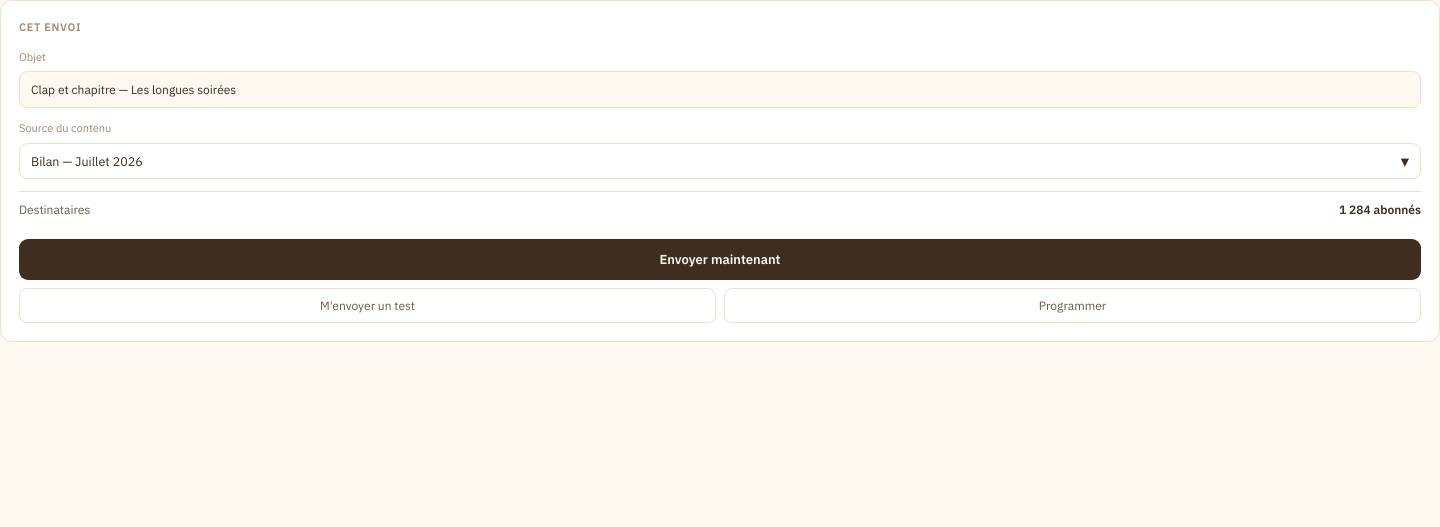
Scenario: AN-3 newsletter panels › proposes a slot and spells the booking out (Paris time) before confirming it
Click the button "Programmer" at (1072, 306), box x1=724 y1=288 x2=1421 y2=323
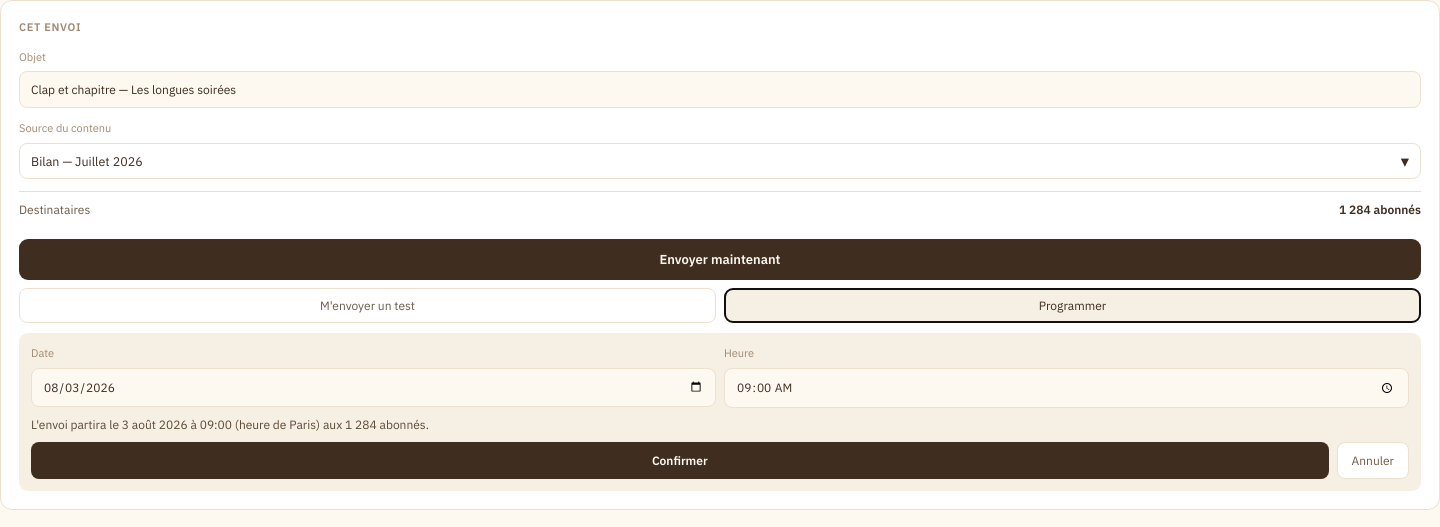
Check: the date field labelled "Date" holds "2026-08-03", box x1=31 y1=368 x2=716 y2=407
Check: the time field labelled "Heure" holds "09:00", box x1=724 y1=368 x2=1409 y2=408
Click the button "Confirmer" at (680, 461), box x1=31 y1=442 x2=1329 y2=479
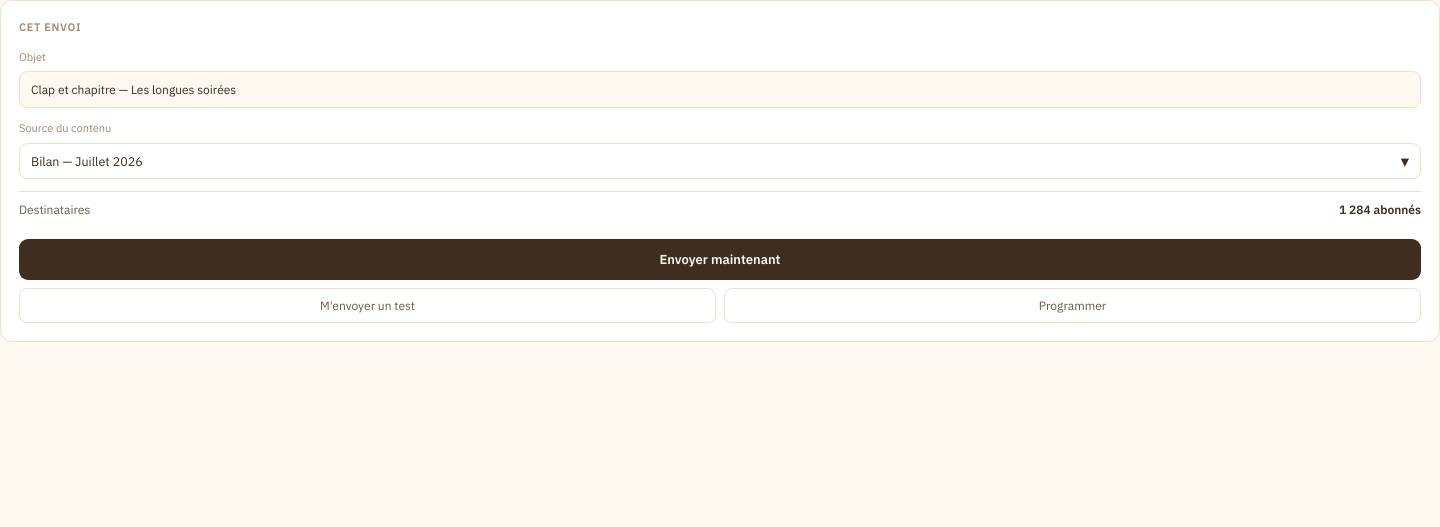
Check: the element with test id "newsletter-schedule-form" is gone
